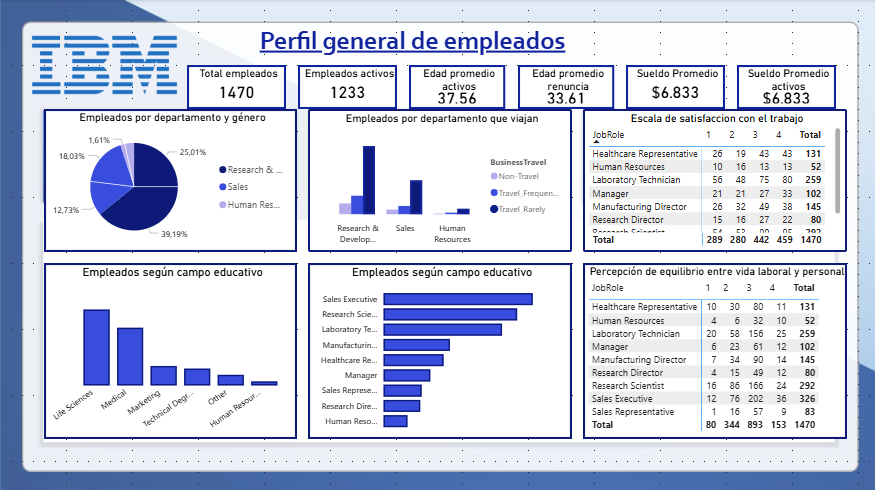

The dashboard page shown, as its layout file describes it:
{"tool":"powerbi","page":{"name":"Página 1","canvas":[1280,720],"ordinal":0},"visuals":[{"type":"pieChart","title":"Empleados por departamento y género","fields":{"Y":["Sum(WA_Fn-UseC_-HR-Employee-Attrition.EmployeeNumber)"],"Category":["WA_Fn-UseC_-HR-Employee-Attrition.Department"],"Series":["WA_Fn-UseC_-HR-Employee-Attrition.Gender"]},"box":[64,160,368,208],"z":0},{"type":"clusteredColumnChart","title":"Empleados según campo educativo","fields":{"Category":["WA_Fn-UseC_-HR-Employee-Attrition.EducationField"],"Y":["Sum(WA_Fn-UseC_-HR-Employee-Attrition.EmployeeNumber)"]},"box":[64,384,368,256],"z":1000},{"type":"image","box":[32,32,240,128],"z":2000},{"type":"textbox","box":[272,32,656,64],"z":3000},{"type":"card","title":"Total empleados","fields":{"Values":["WA_Fn-UseC_-HR-Employee-Attrition.TotalEmpleados"]},"box":[272,96,144,64],"z":4000},{"type":"card","title":"Empleados activos","fields":{"Values":["WA_Fn-UseC_-HR-Employee-Attrition.EmpleadosActivos"]},"box":[433.6,96,144,64],"z":5000},{"type":"card","title":"Edad promedio activos","fields":{"Values":["WA_Fn-UseC_-HR-Employee-Attrition.EdadPromedioActivos"]},"box":[595.2,96,140,64],"z":6000},{"type":"card","title":"Edad promedio renuncia","fields":{"Values":["WA_Fn-UseC_-HR-Employee-Attrition.EdadPromedioRenunciaron"]},"box":[752.8,96,140,64],"z":7000},{"type":"card","title":"Sueldo Promedio","fields":{"Values":["WA_Fn-UseC_-HR-Employee-Attrition.SueldoPromedioActivos"]},"box":[910.4,96,144,64],"z":8000},{"type":"card","title":"Sueldo Promedio activos","fields":{"Values":["WA_Fn-UseC_-HR-Employee-Attrition.SueldoPromedioActivos"]},"box":[1072,96,144,64],"z":9000},{"type":"clusteredColumnChart","title":"Empleados por departamento que viajan","fields":{"Y":["Sum(WA_Fn-UseC_-HR-Employee-Attrition.EmployeeNumber)"],"Category":["WA_Fn-UseC_-HR-Employee-Attrition.Department"],"Series":["WA_Fn-UseC_-HR-Employee-Attrition.BusinessTravel"]},"box":[448,160,384,208],"z":10000},{"type":"pivotTable","title":"Escala de satisfaccion con el trabajo","fields":{"Rows":["WA_Fn-UseC_-HR-Employee-Attrition.JobRole"],"Columns":["WA_Fn-UseC_-HR-Employee-Attrition.JobSatisfaction"],"Values":["Count(WA_Fn-UseC_-HR-Employee-Attrition.EmployeeNumber)"]},"box":[848,160,384,208],"z":11000},{"type":"clusteredBarChart","title":"Empleados según campo educativo","fields":{"Category":["WA_Fn-UseC_-HR-Employee-Attrition.JobRole"],"Y":["CountNonNull(WA_Fn-UseC_-HR-Employee-Attrition.OverTime)"]},"box":[448,384,384,256],"z":12000},{"type":"pivotTable","title":"Percepción de equilibrio entre vida laboral y personal","fields":{"Rows":["WA_Fn-UseC_-HR-Employee-Attrition.JobRole"],"Columns":["WA_Fn-UseC_-HR-Employee-Attrition.WorkLifeBalance"],"Values":["CountNonNull(WA_Fn-UseC_-HR-Employee-Attrition.EmployeeNumber)"]},"box":[848,384,384,256],"z":13000}]}

Visuals, with their boxes in screenshot pixels (x1, y1, x2, y2), scaled from the page's 1280x720 canvas onto the 875x490 screenshot:
"Empleados por departamento y género" pieChart: crop(44, 109, 295, 250)
"Empleados según campo educativo" clusteredColumnChart: crop(44, 261, 295, 436)
image: crop(22, 22, 186, 109)
textbox: crop(186, 22, 634, 65)
"Total empleados" card: crop(186, 65, 284, 109)
"Empleados activos" card: crop(296, 65, 395, 109)
"Edad promedio activos" card: crop(407, 65, 503, 109)
"Edad promedio renuncia" card: crop(515, 65, 610, 109)
"Sueldo Promedio" card: crop(622, 65, 721, 109)
"Sueldo Promedio activos" card: crop(733, 65, 831, 109)
"Empleados por departamento que viajan" clusteredColumnChart: crop(306, 109, 569, 250)
"Escala de satisfaccion con el trabajo" pivotTable: crop(580, 109, 842, 250)
"Empleados según campo educativo" clusteredBarChart: crop(306, 261, 569, 436)
"Percepción de equilibrio entre vida laboral y personal" pivotTable: crop(580, 261, 842, 436)
